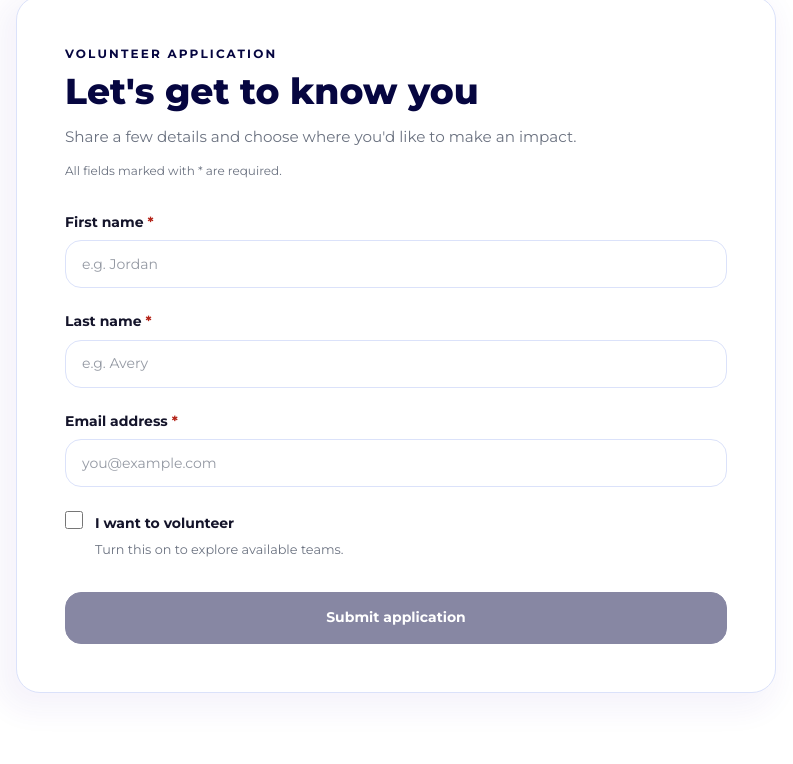
Scenario: FormRenderer › submits the Music branch with only its visible values
Type "Jordan" into the field labelled "First name *".
click(396, 264); type("Jordan")  # box [65, 240, 727, 288]
Type "Avery" into the field labelled "Last name *".
click(396, 364); type("Avery")  # box [65, 340, 727, 388]
Type "jordan@example.com" into the field labelled "Email address *".
click(396, 463); type("jordan@example.com")  # box [65, 439, 727, 487]
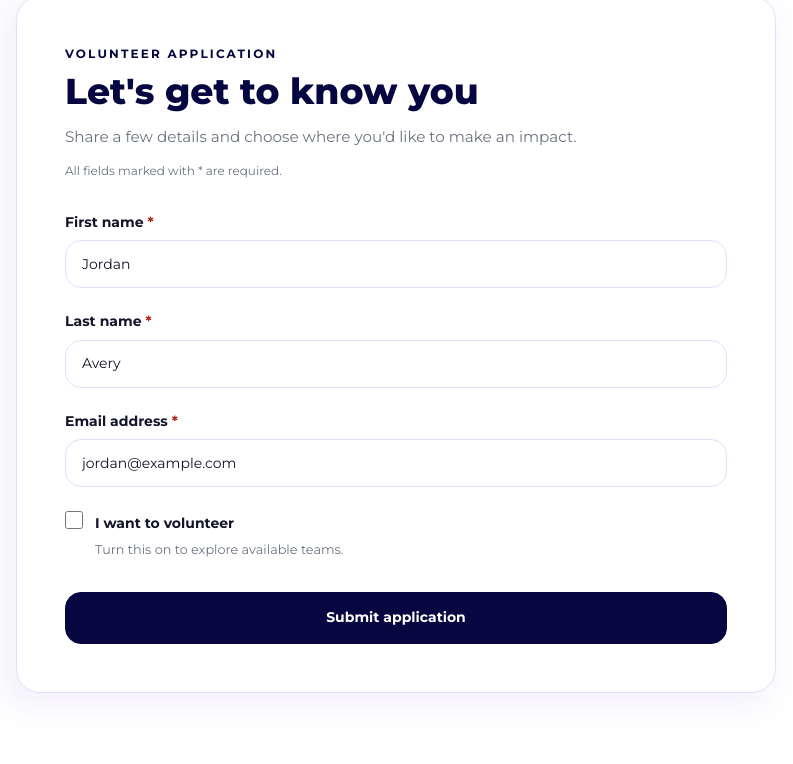
Click the checkbox labelled "I want to volunteer Turn this on to explore available teams.".
click(74, 520)  # box [65, 511, 83, 529]
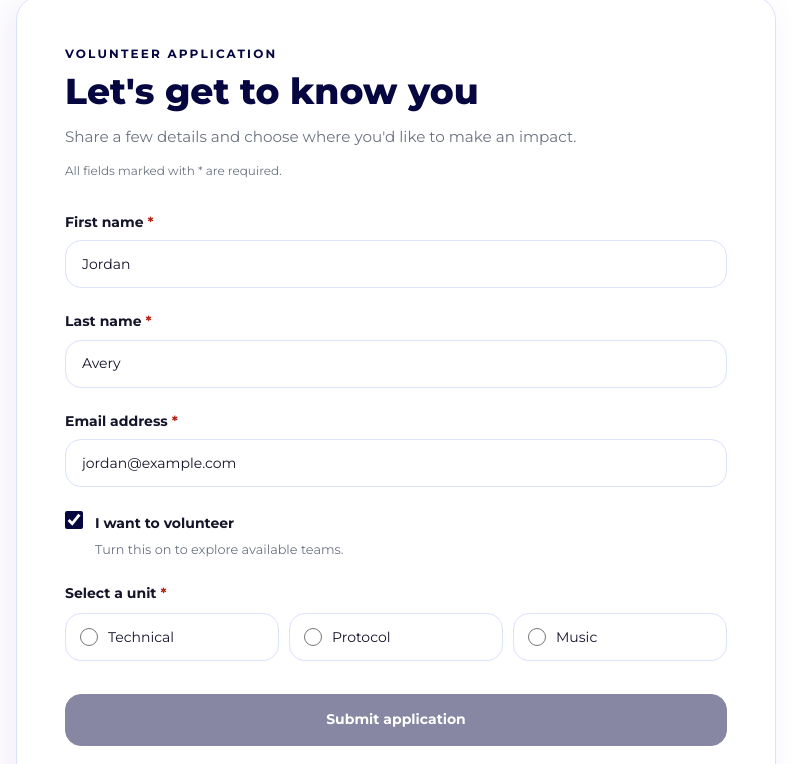
Click the radio button labelled "Music".
click(537, 637)  # box [528, 628, 546, 646]
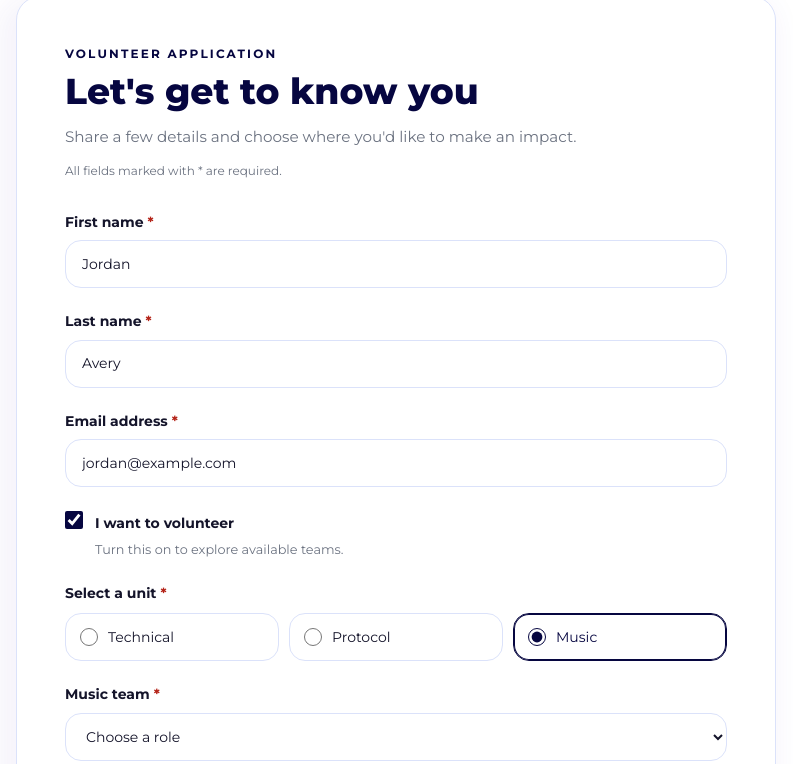
Select "Vocalist" in the dropdown labelled "Music team *" at (396, 737), box [65, 713, 727, 761]
(page scrolled)
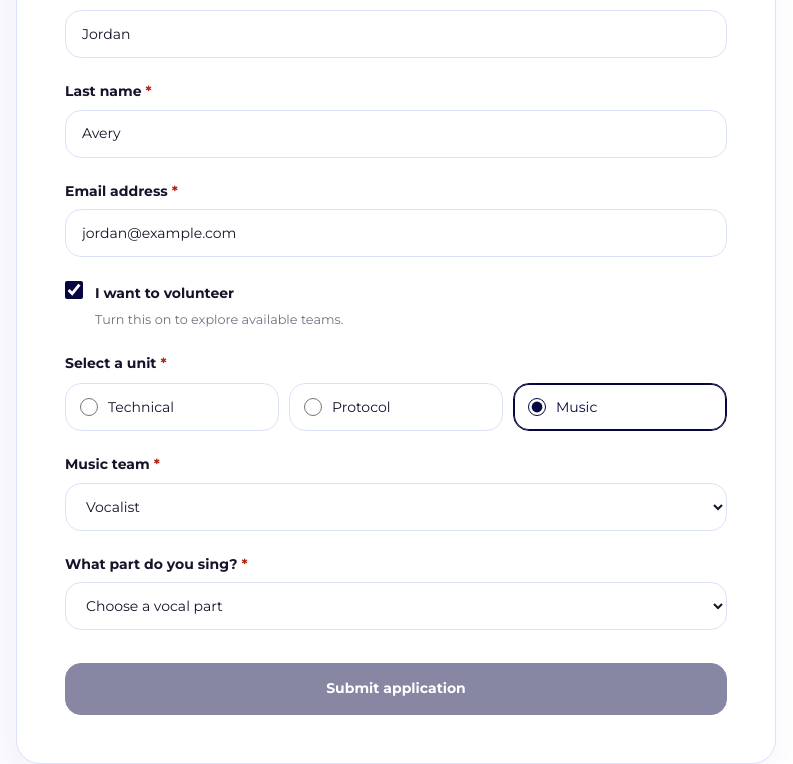
Select "Alto" in the dropdown labelled "What part do you sing? *" at (396, 606), box [65, 582, 727, 630]
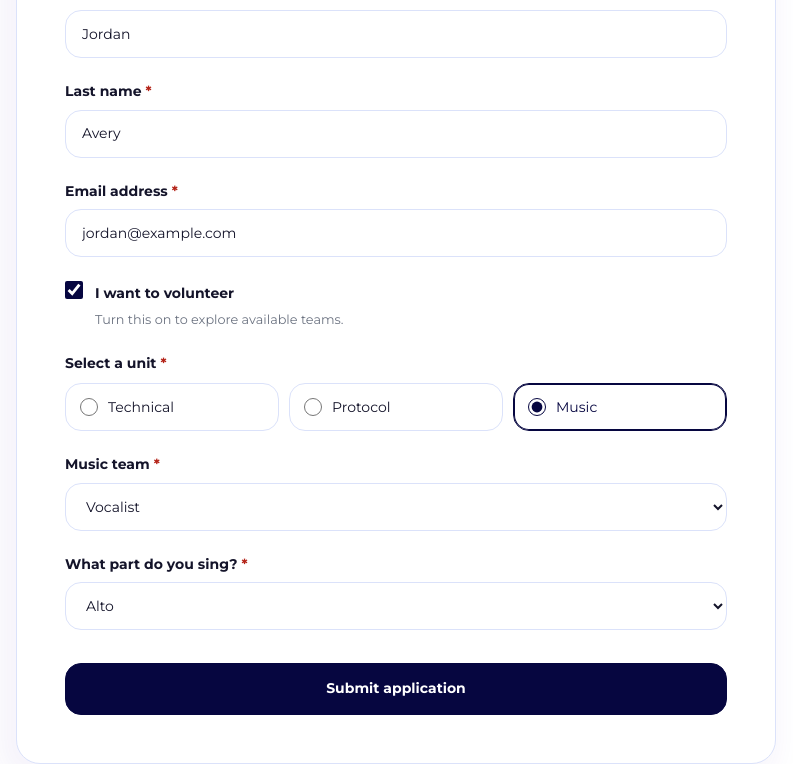
Expected: the button "Submit application" is enabled
Click the button "Submit application".
click(396, 689)  # box [65, 663, 727, 715]
(page scrolled)
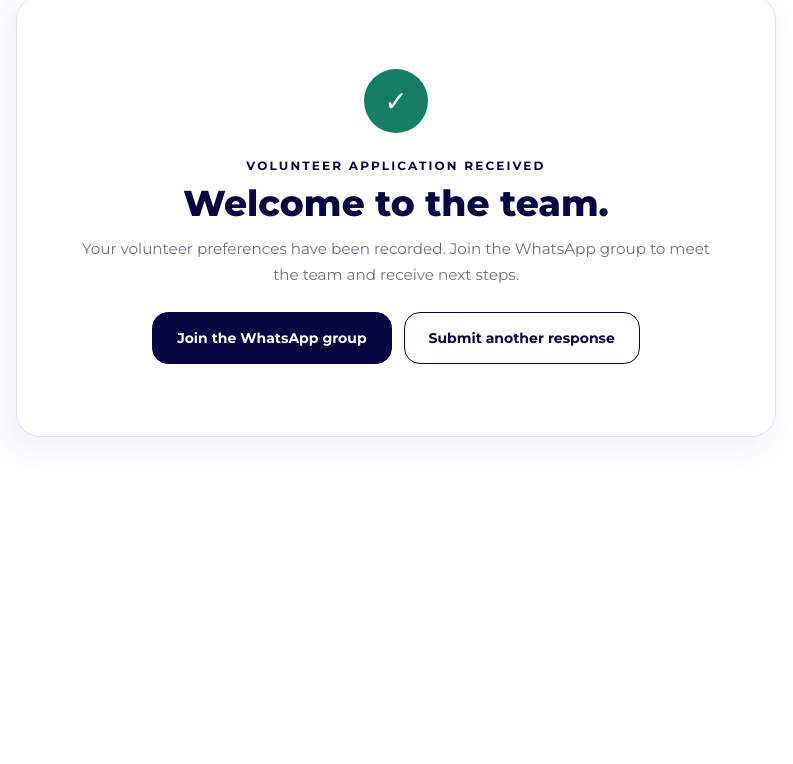
Expected: the heading "Welcome to the team." is shown, [183, 183, 609, 224]
Expected: the link "Join the WhatsApp group" is shown, [152, 312, 392, 364]
